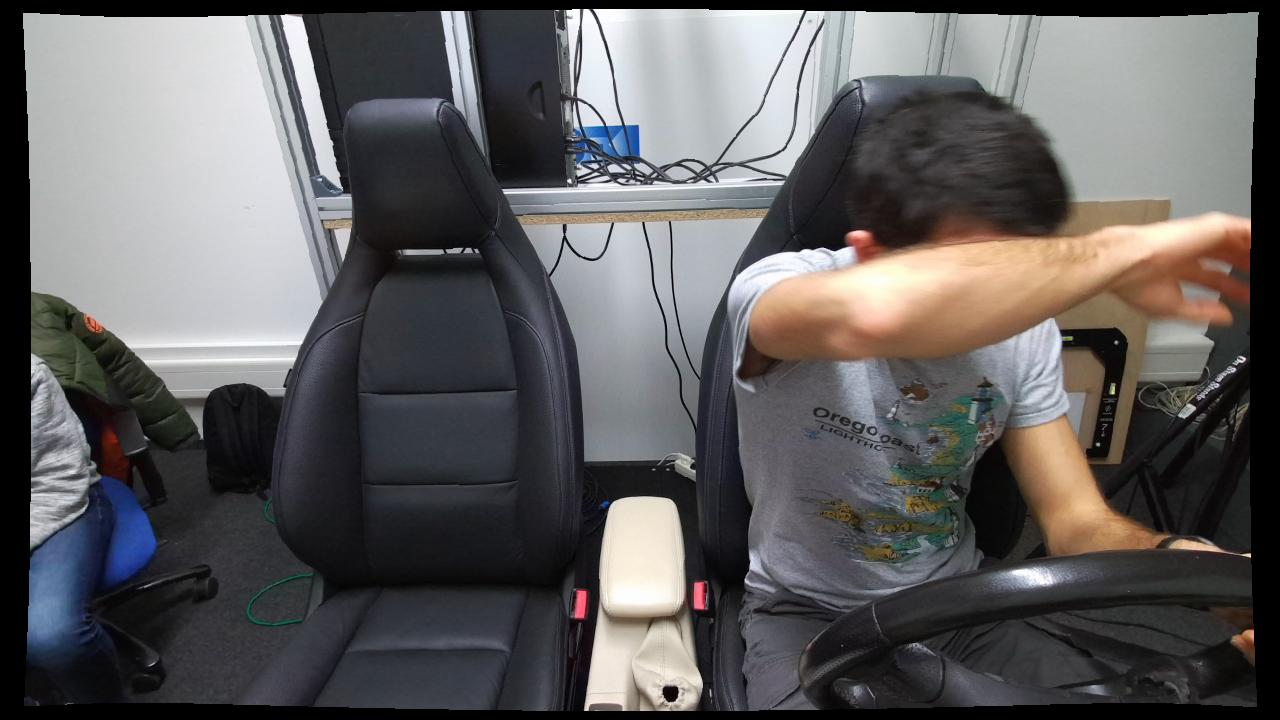Distracted: (719, 70, 1260, 713)
